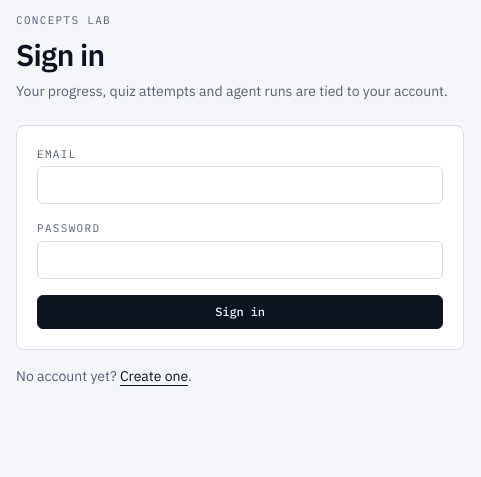
LoginPage › shows the server error for LOCKED
Type "learner@example.test" into the field labelled "Email" at [240, 185], box [37,166,443,204]
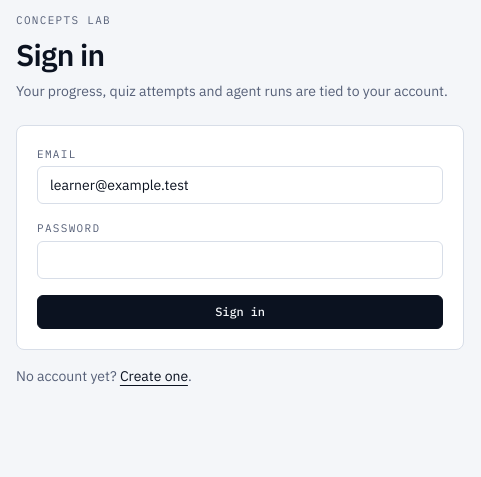
Type "whatever it takes" into the password field labelled "Password" at [240, 260], box [37,240,443,278]
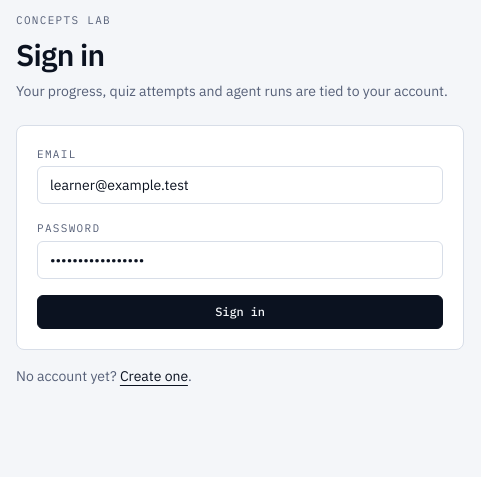
Click the button "Sign in" at [240, 312], box [37,294,443,328]
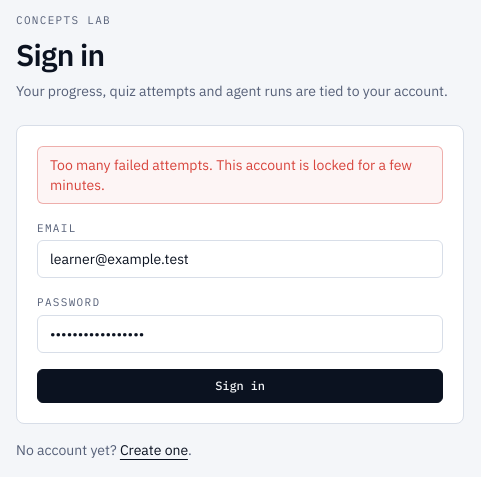
Result: the message with test id "form-error" shows "locked" at [50,156,412,194]
